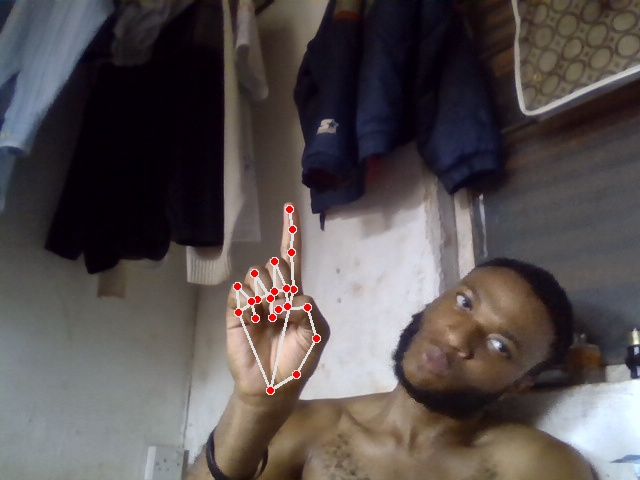number1: (226, 200, 332, 407)
